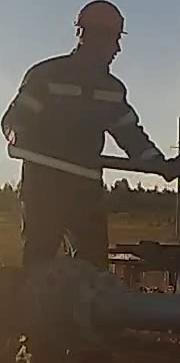helmet: (74, 0, 129, 37)
vest: (1, 59, 139, 216)
